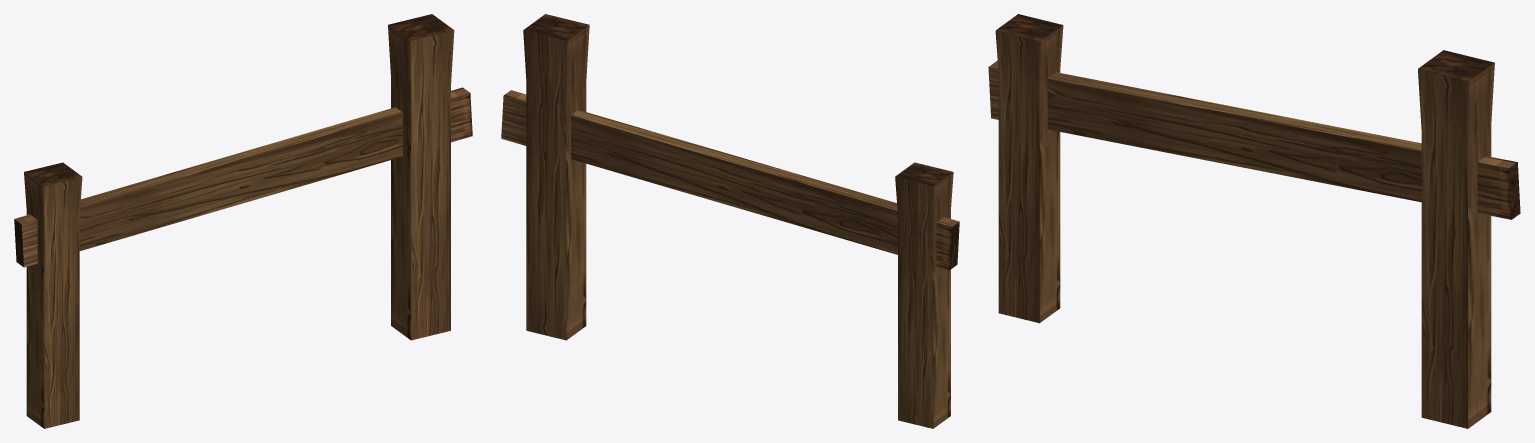
The model's file is fanasty_mod_gro_fence04.fbx.
3 views of the same model, side by side, from view 1: azimuth 30°, elevation 25°; view 2: azimuth 150°, elevation 25°; view 3: azimuth 330°, elevation 25° (orthographic). The views are drawn at different scales.
Parts seen in each view (by area): view 1: gro_fence_04; view 2: gro_fence_04; view 3: gro_fence_04.
Part boxes in pixels (x1,y1,x2,y2): gro_fence_04: (14, 14, 472, 428); gro_fence_04: (501, 14, 959, 428); gro_fence_04: (988, 14, 1520, 428).
Size of the model in its own units: 1.45 by 0.9224 by 0.123.
